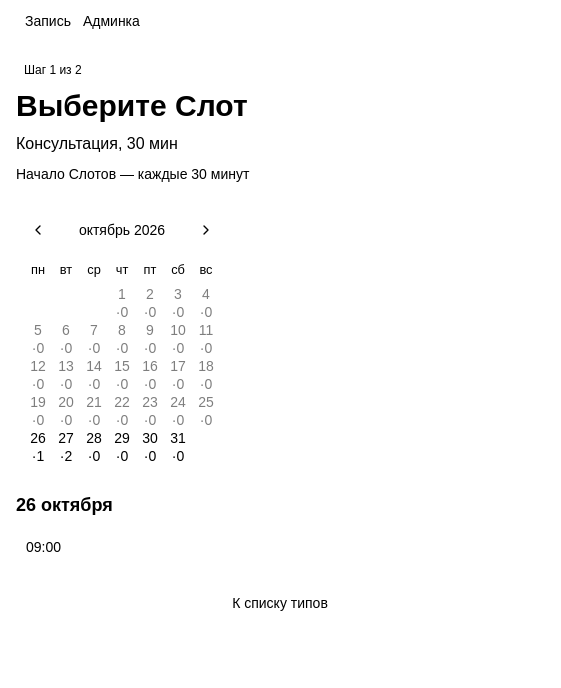
SlotPickerPage › смена дня обновляет URL и показывает его Слоты, сбрасывая выбор
The width and height of the screenshot is (561, 688).
Click the button "09:00".
click(44, 547)  # box [16, 531, 71, 563]
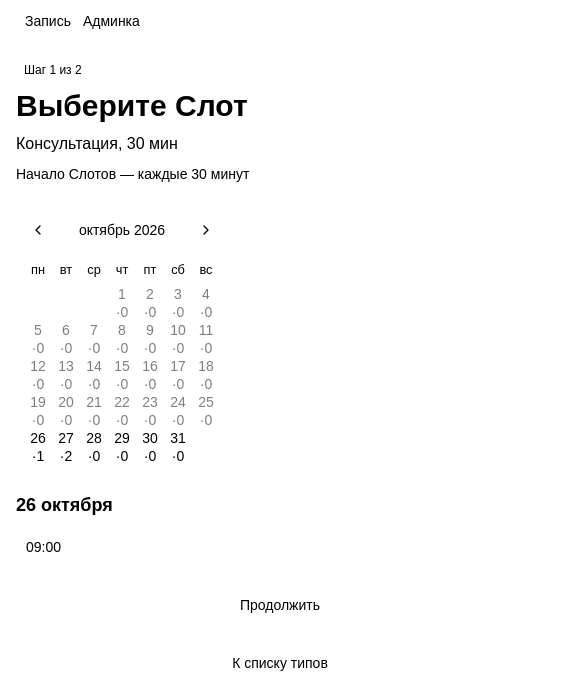
Check: the button "Продолжить" is shown, box [16, 587, 544, 623]
Click the button "27 ·2".
click(66, 447)  # box [52, 431, 80, 463]
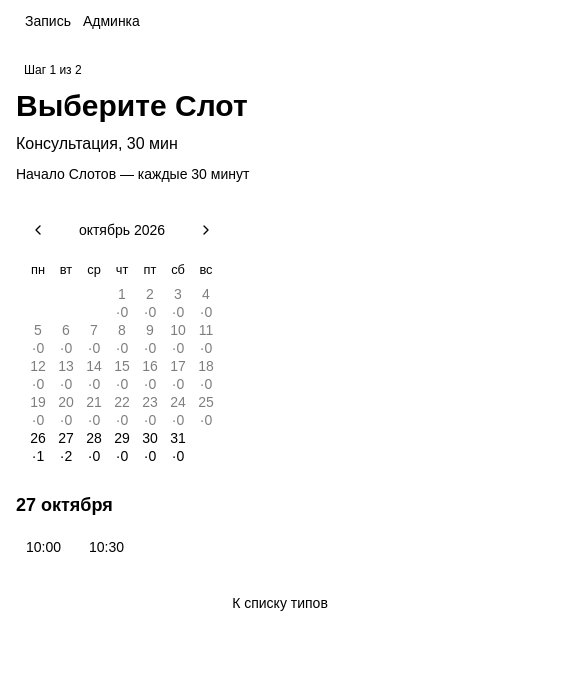
Check: the button "10:30" is enabled, box [79, 531, 134, 563]
Check: the button "10:00" is shown, box [16, 531, 71, 563]
Check: the button "Продолжить" is gone
